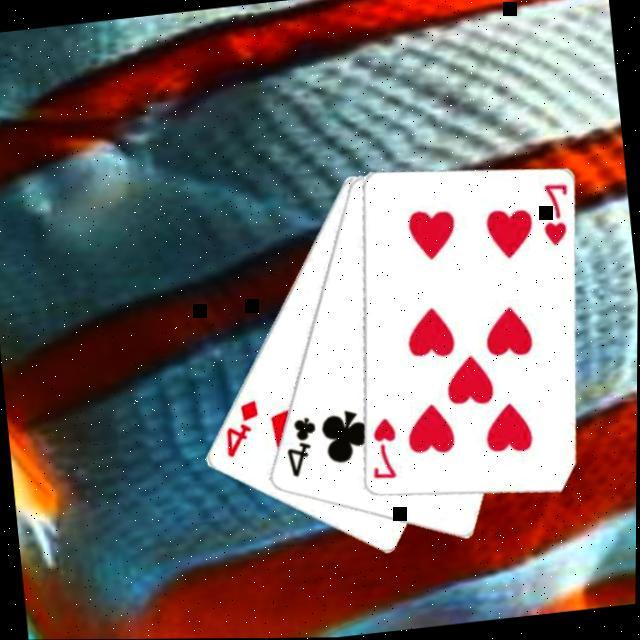4C: (282, 416, 324, 482)
4D: (219, 398, 266, 462)
7H: (537, 182, 576, 252), (365, 416, 403, 486)
